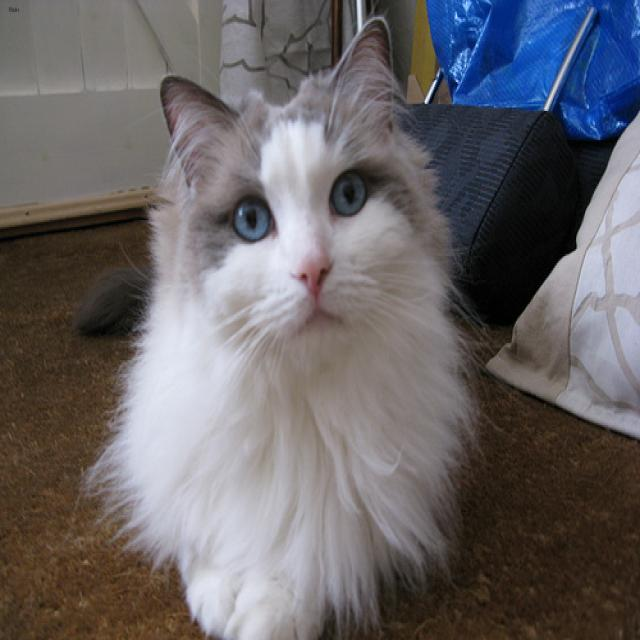Ragdoll: (159, 14, 392, 358)
